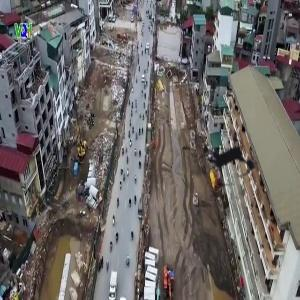drone: (160, 92, 293, 225)
